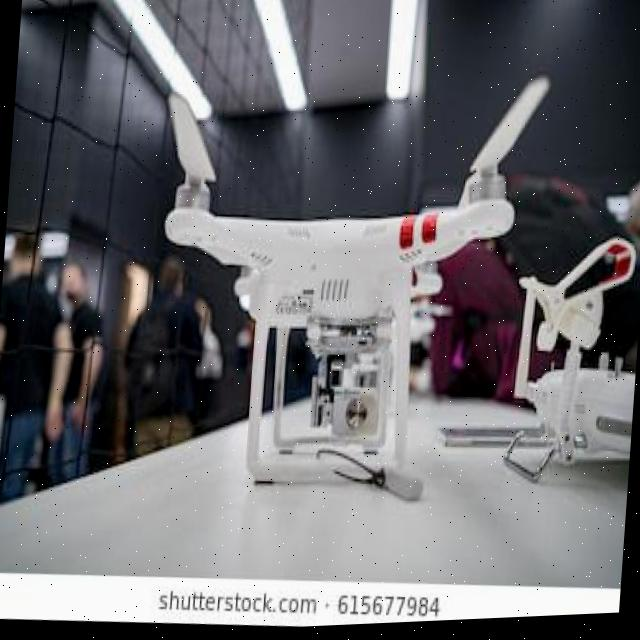drone: (125, 50, 557, 551)
